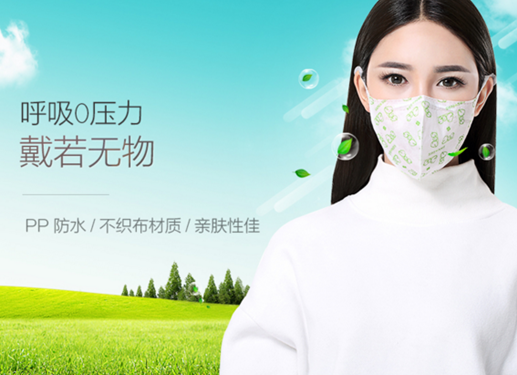face_mask: (368, 23, 482, 179)
